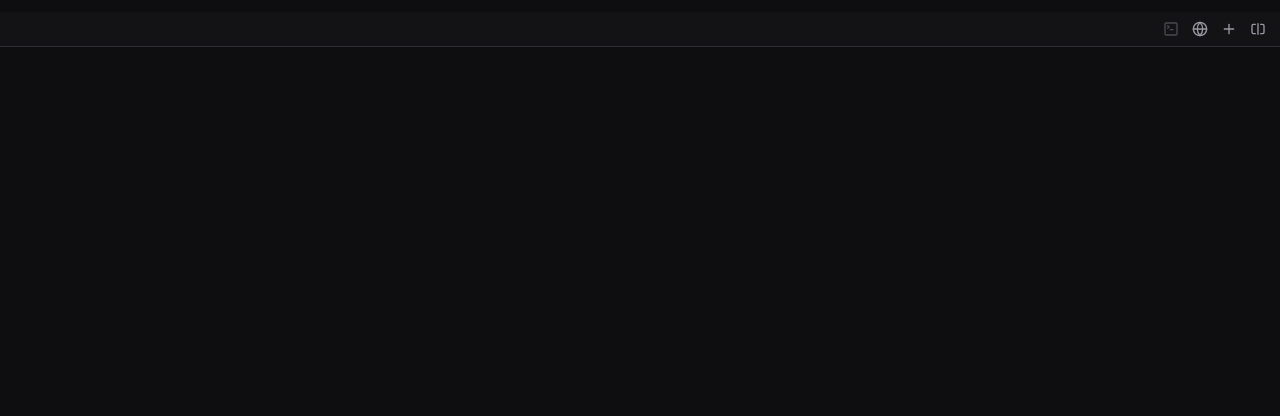
Test case: EditorTabs › plus dropdown contains New Terminal in Panel and tab items but not Browser
Step 1. Click the button with test id "editor-tabs-new" → (1229, 29), box x1=1215 y1=15 x2=1243 y2=43
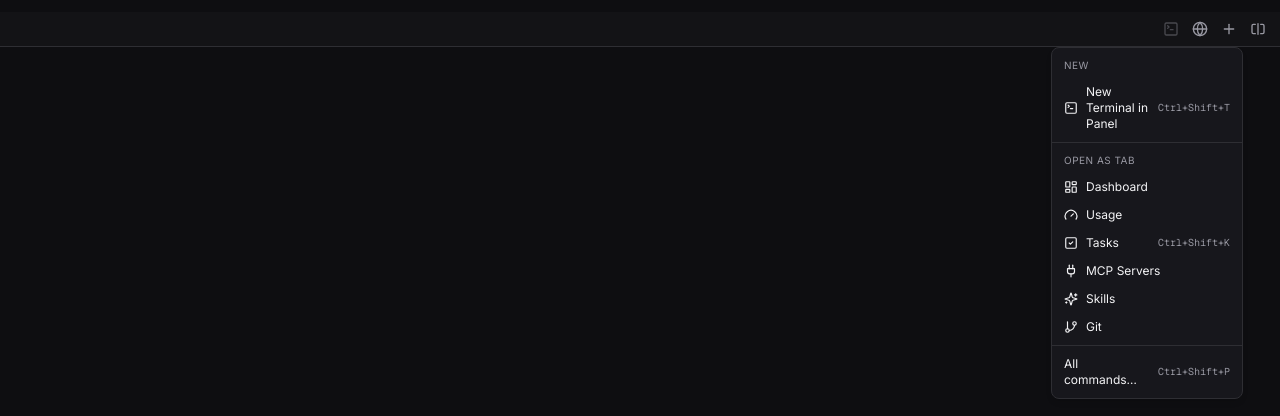
Now the menu item with test id "editor-tabs-open-terminal" is shown, box x1=1056 y1=78 x2=1238 y2=138
Now the menu item with test id "editor-tabs-open-dashboard" is shown, box x1=1064 y1=179 x2=1148 y2=194
Now the menu item with test id "editor-tabs-open-kanban" is shown, box x1=1064 y1=235 x2=1230 y2=250
